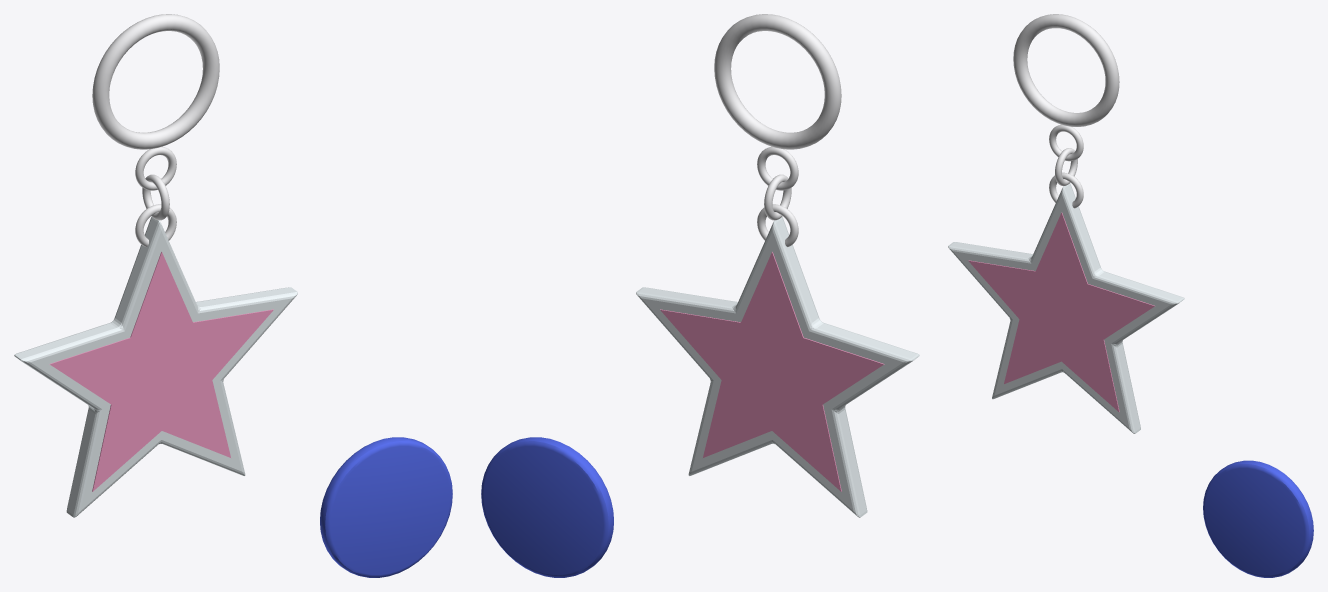
File: keyring.glb
The picture shows the model from 3 angles, left to right: view 1: azimuth 30°, elevation 25°; view 2: azimuth 150°, elevation 25°; view 3: azimuth 330°, elevation 25°; orthographic projection. The views are drawn at different scales.
Visible parts, largest first — view 1: art, badge, acryl, ring, link0, link2, link1; view 2: art, badge, acryl, ring, link0, link2, link1; view 3: art, acryl, badge, ring, link0, link2, link1.
Part boxes in pixels (x1,y1,x2,y2): art: (49, 252, 273, 491); badge: (320, 437, 452, 577); acryl: (14, 217, 297, 517); ring: (92, 14, 219, 149); link0: (135, 146, 176, 190); link2: (135, 204, 176, 246); link1: (142, 174, 169, 220); art: (660, 252, 884, 491); badge: (481, 437, 613, 577); acryl: (636, 217, 919, 517); ring: (714, 14, 841, 149); link0: (757, 146, 798, 190); link2: (757, 204, 798, 246); link1: (764, 174, 791, 220); art: (968, 212, 1154, 412); acryl: (948, 183, 1184, 433); badge: (1203, 460, 1313, 577); ring: (1013, 14, 1119, 126); link0: (1049, 124, 1083, 161); link2: (1049, 172, 1083, 208); link1: (1055, 148, 1077, 185).
Size of the model in its own units: 0.4706 by 0.638 by 0.044.
